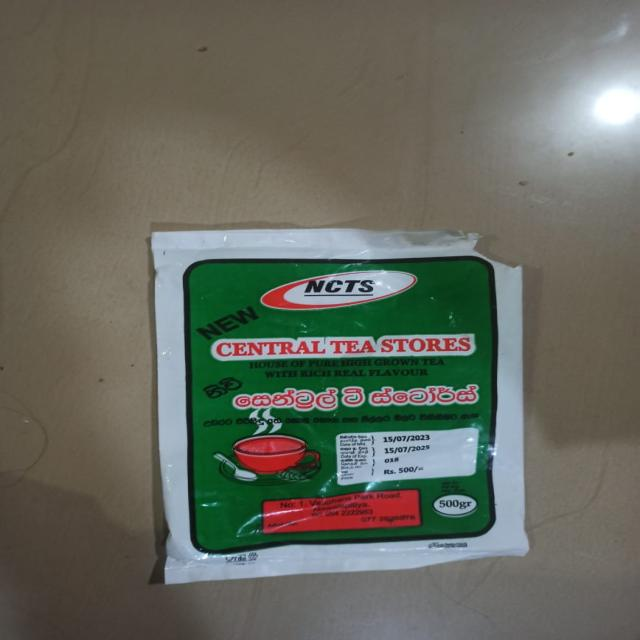Central Tea: (98, 234, 531, 548)
